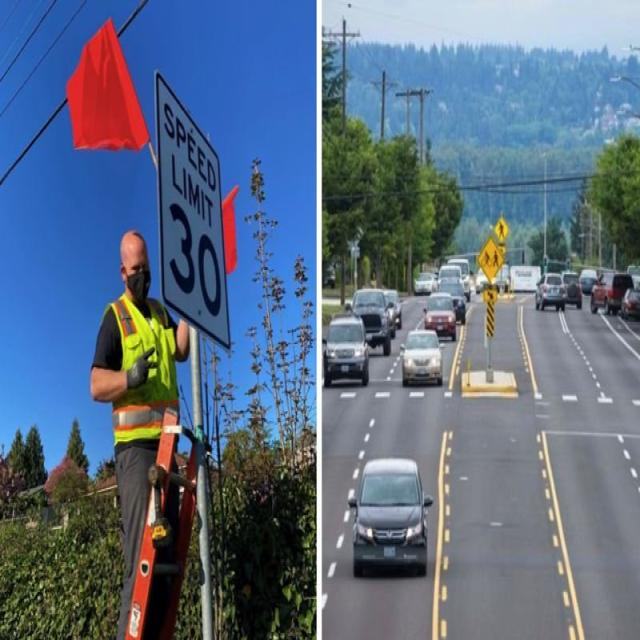speedLimit30: (151, 71, 234, 343)
